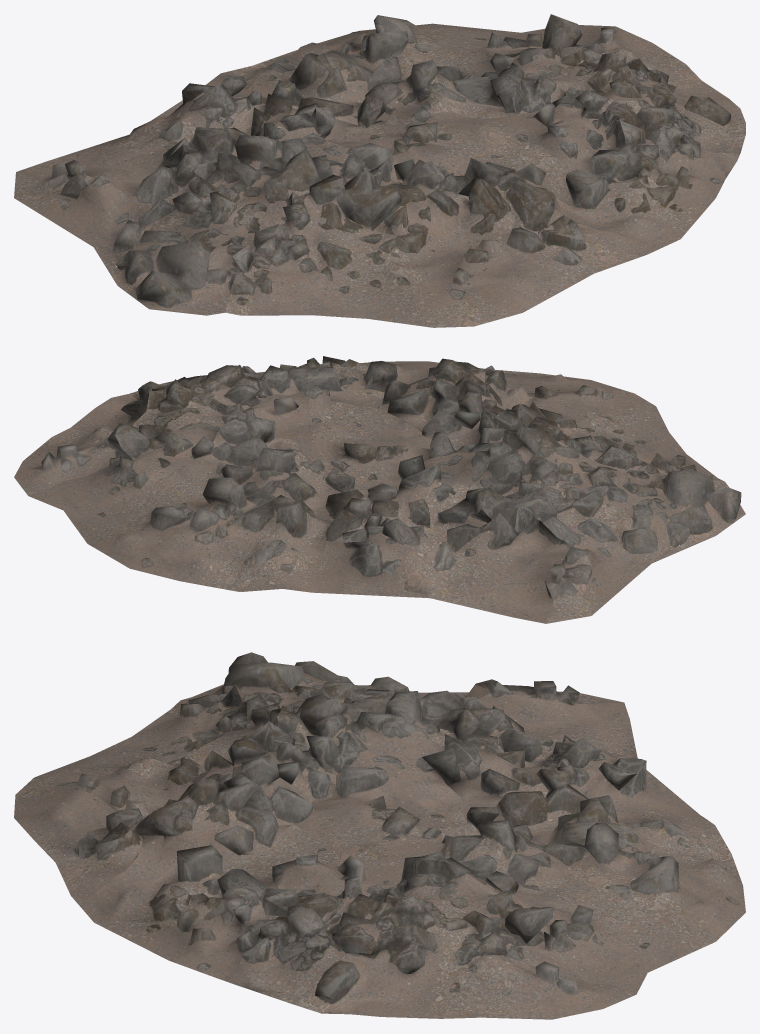
The model's file is SM_Debris_02a.fbx.
3 renders of one model, top to bottom at view 1: azimuth 30°, elevation 25°; view 2: azimuth 150°, elevation 25°; view 3: azimuth 270°, elevation 25°, orthographic. The views are drawn at different scales.
Visible parts, largest first — view 1: SM_Debris_02a; view 2: SM_Debris_02a; view 3: SM_Debris_02a.
Boxes of the visible parts, left/top/right/bottom form: SM_Debris_02a: left=14, top=14, right=745, bottom=327; SM_Debris_02a: left=14, top=356, right=745, bottom=623; SM_Debris_02a: left=14, top=652, right=745, bottom=1019.
Size of the model in its own units: 315 by 38.73 by 280.
